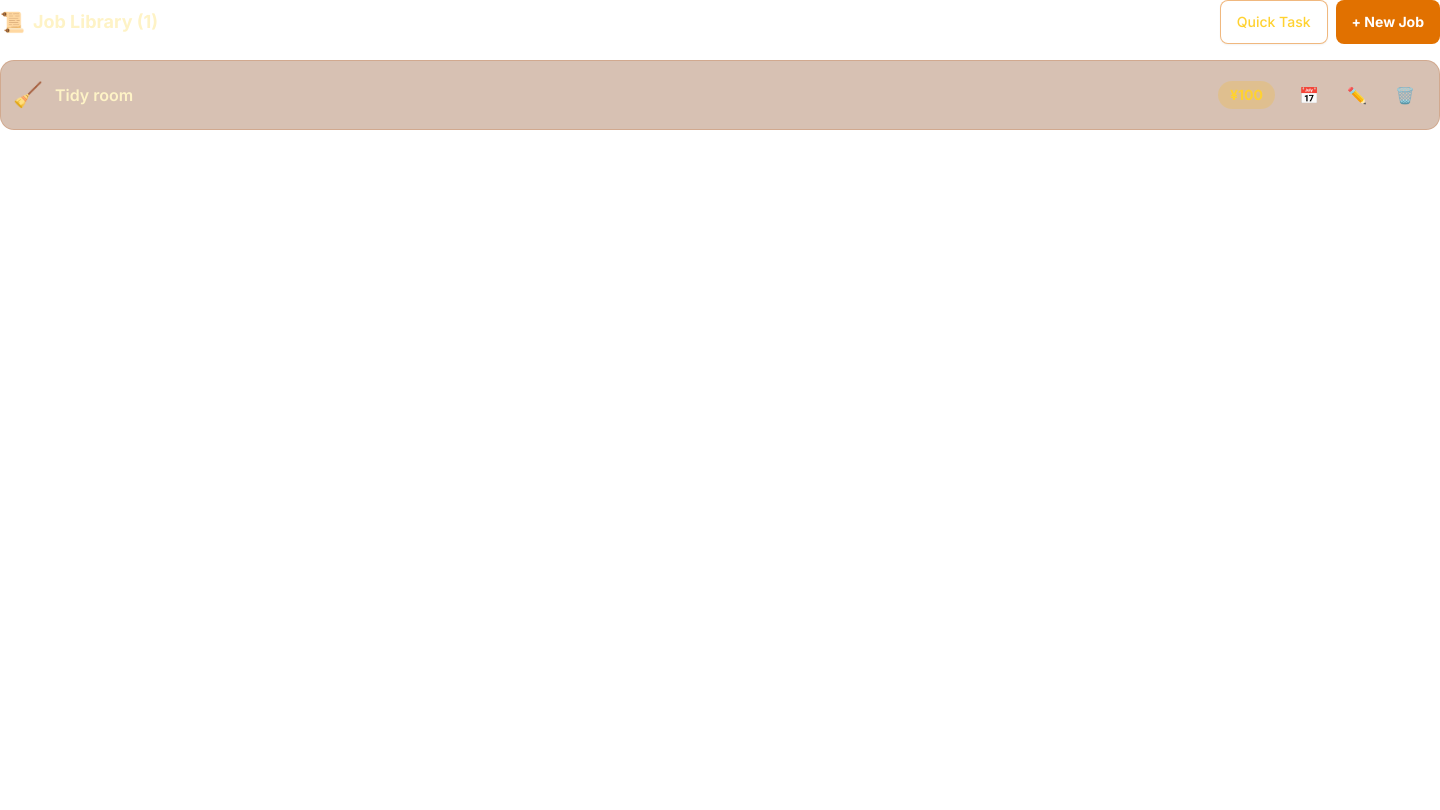
JobManager › opens the delete-confirm dialog when the delete icon is clicked
Click the button with test id "job-row-delete": (1405, 95) [1383,73,1427,117]
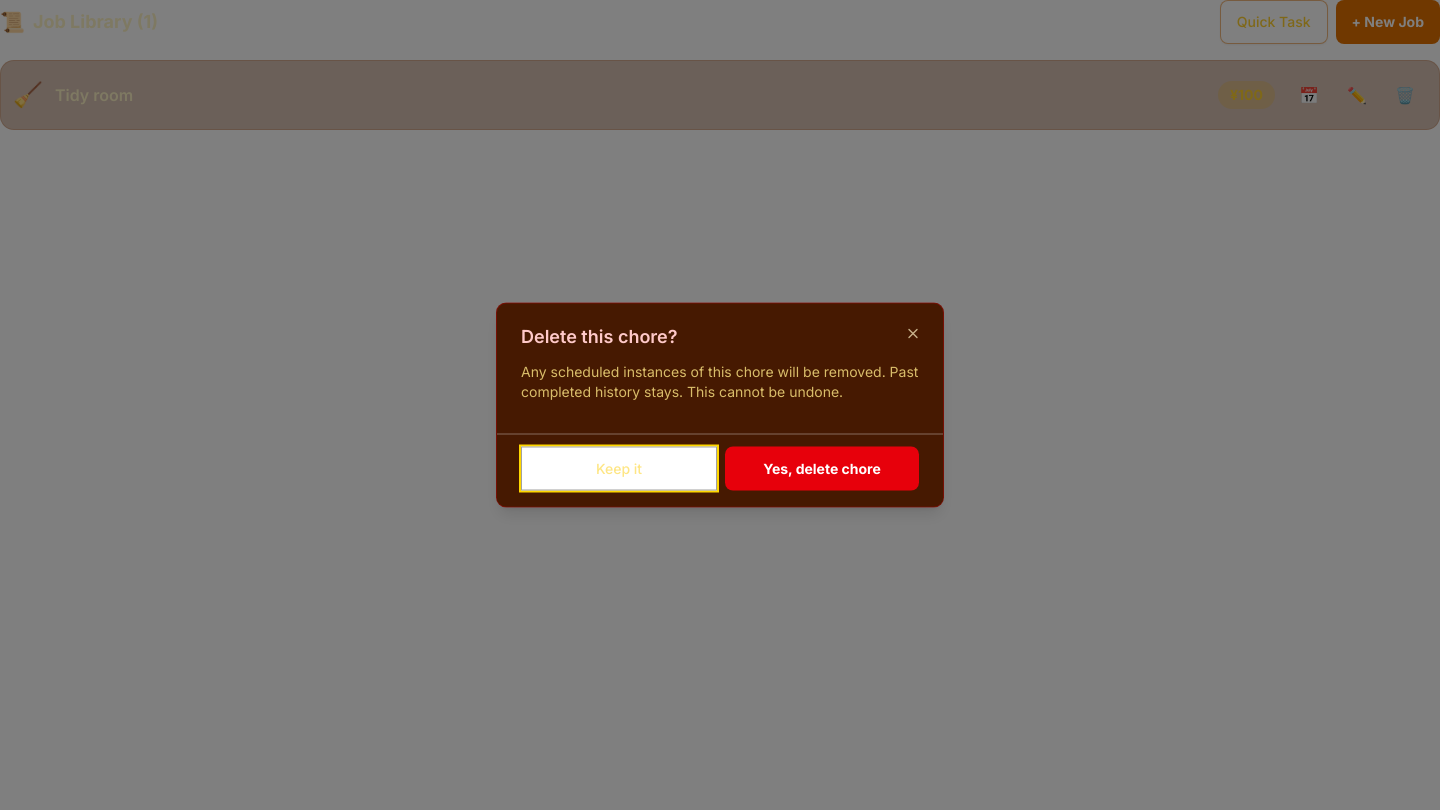
Check: the dialog with test id "confirm-dialog" is shown, box [496,302,944,508]
Check: the button with test id "job-delete-confirm" is shown, box [725,446,919,490]
